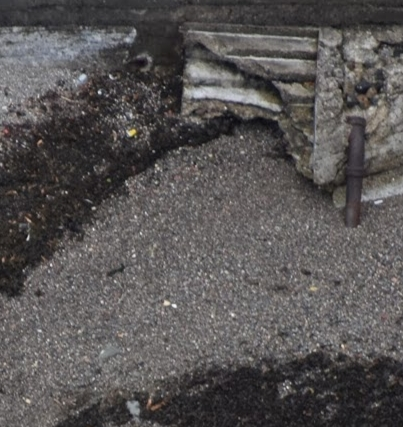white_in_green: (114, 114, 149, 147)
